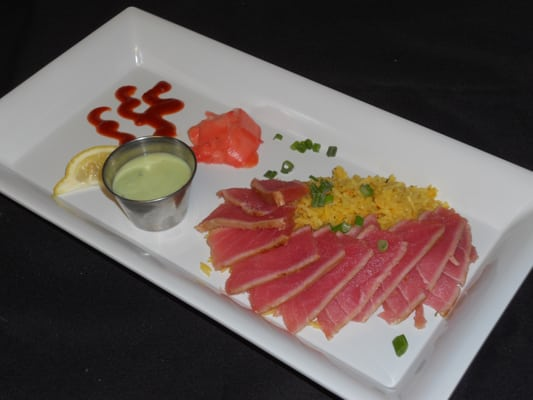pizza: (100, 136, 197, 233)
sushi: (101, 136, 197, 233)
